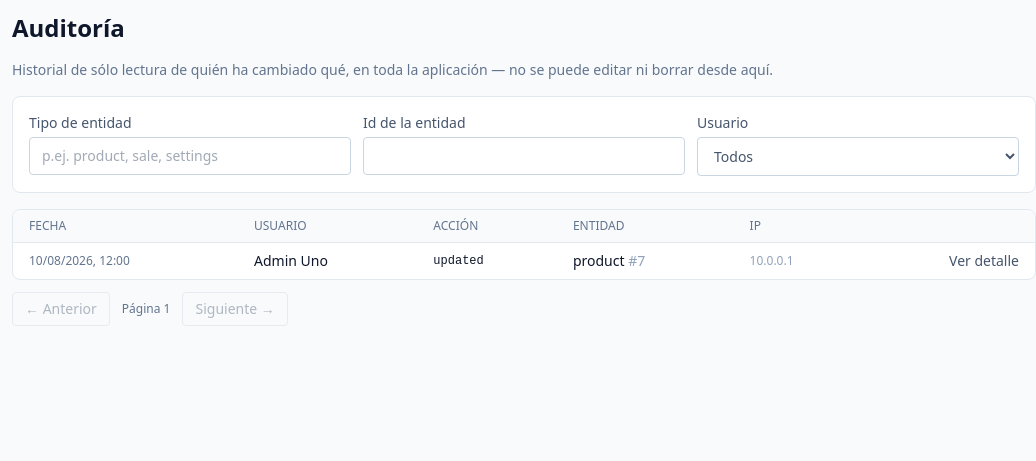
Test: AuditLogPage › lists entries, resolves the user name, and expands the before/after detail
Expected: the text "updated" is shown, [417, 242, 557, 279]
Expected: the cell "Admin Uno" is shown, [238, 242, 417, 279]
Click the button "Ver detalle". click: {"x": 984, "y": 261}
box: [949, 251, 1019, 271]
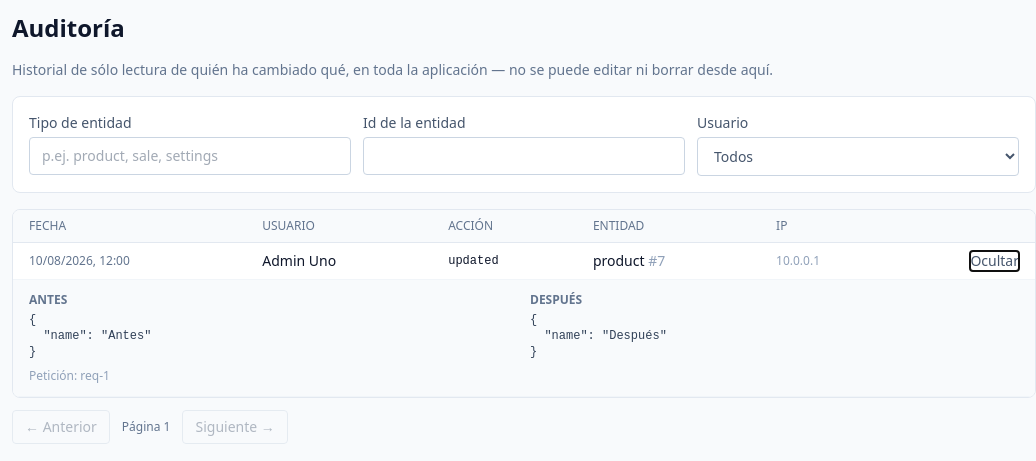
Result: the text "{ \"name\": \"Antes\" }" is shown at [29, 313, 151, 359]
Result: the text "{ \"name\": \"Después\" }" is shown at [530, 313, 667, 359]
